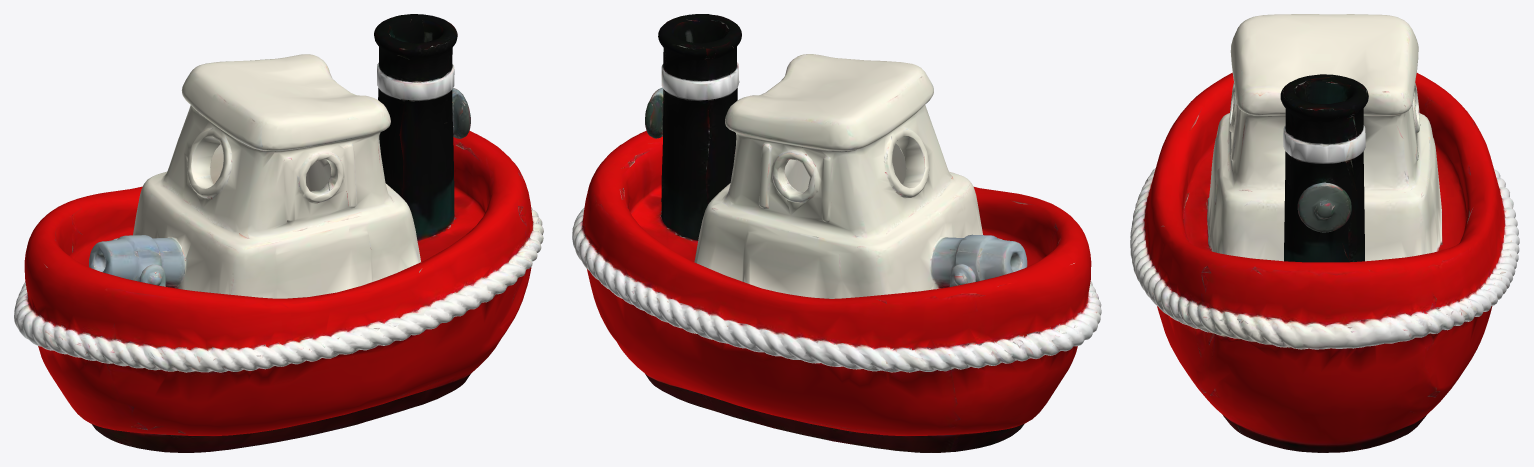
The picture shows the model from 3 angles, left to right: view 1: azimuth 30°, elevation 25°; view 2: azimuth 150°, elevation 25°; view 3: azimuth 270°, elevation 25°; orthographic projection. The views are drawn at different scales.
Parts seen in each view (by area): view 1: Mesh_0; view 2: Mesh_0; view 3: Mesh_0.
Boxes of the visible parts, bbox=[...] form: Mesh_0: bbox=[14, 14, 543, 452]; Mesh_0: bbox=[572, 14, 1101, 452]; Mesh_0: bbox=[1130, 14, 1519, 452].
Size of the model in its own units: 1.91 by 1.23 by 1.27.
1 material, 1 textured.
